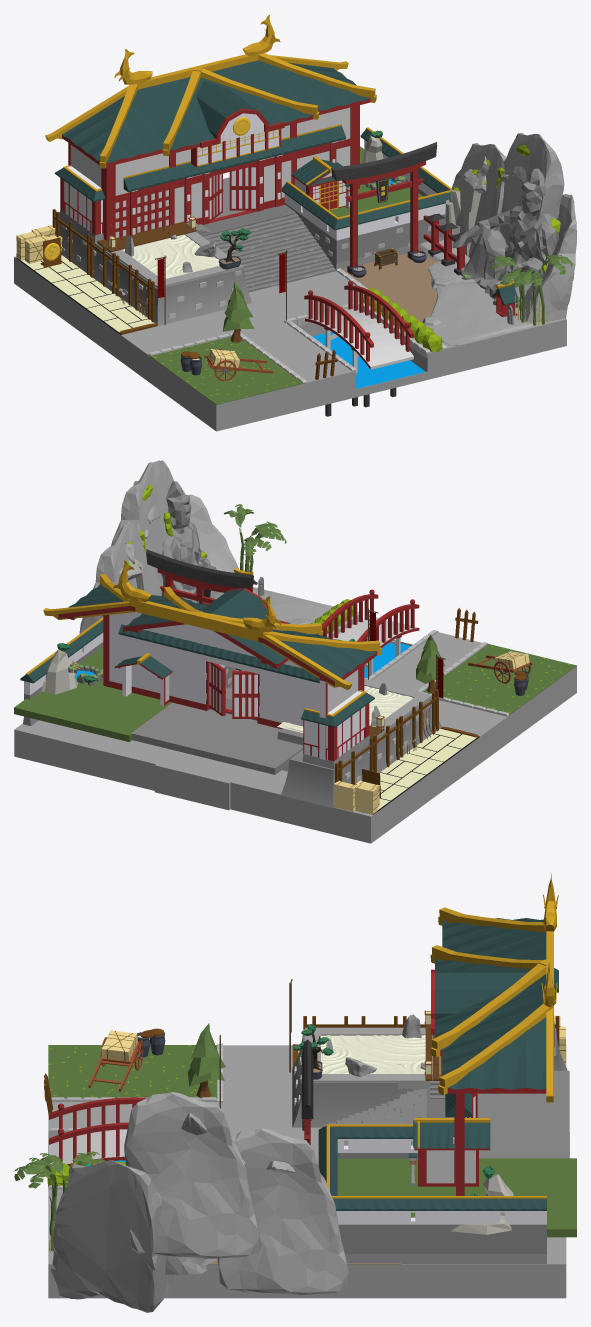
Rendered from Asian_Building.fbx.
3 renders of one model, top to bottom at view 1: azimuth 30°, elevation 25°; view 2: azimuth 150°, elevation 25°; view 3: azimuth 270°, elevation 25°, orthographic. The views are drawn at different scales.
Visible parts, largest first — view 1: Cube (15), Asian_Prop_Statue_Buddha_Bodhisattva_01, Asian_Prop_Bridge_02, Asian_Prop_Building_Modular_Roof_Corner_Outer_01 (2), Cube (16), Cube (21), Asian_Prop_Torii_Gate_01, Asian_Prop_Building_Modular_Roof_Corner_Outer_02 (2), Rock_Large_09 (2), Asian_Prop_Building_Modular_Roof_Corner_Outer_01 (3), Rock_Large_06 (2), Rock_Large_06 (3) (+49 smaller); view 2: Cube (15), Cube (23), Cube (16), Cube (1), Cube (21), Cube (17), Asian_Prop_Building_Modular_Roof_Corner_Outer_01 (2), Asian_Prop_Bridge_02, Rock_Large_06 (2), Asian_Prop_Statue_Buddha_Bodhisattva_01, Asian_Prop_Building_Modular_Roof_Corner_Outer_02 (2), Asian_Prop_Torii_Gate_01 (+39 smaller); view 3: Rock_Large_06 (2), Rock_Large_06 (1), Rock_Large_06 (3), Cube (16), Cube (1), Asian_Prop_Building_Modular_Roof_Corner_Outer_01 (3), Cube (15), Cube (21), Asian_Prop_Building_Fence_Wall_High_Embrasure_04 (2), Cube (23), Asian_Prop_Building_Fence_Wall_High_Embrasure_04 (3), Asian_Prop_Building_Modular_Roof_Corner_Outer_02 (3) (+26 smaller).
Boxes of the visible parts, bbox=[...] form: Cube (15): bbox=[14, 256, 355, 431]; Asian_Prop_Statue_Buddha_Bodhisattva_01: bbox=[452, 168, 557, 307]; Asian_Prop_Bridge_02: bbox=[304, 280, 413, 369]; Asian_Prop_Building_Modular_Roof_Corner_Outer_01 (2): bbox=[62, 83, 168, 168]; Cube (16): bbox=[321, 271, 566, 379]; Cube (21): bbox=[150, 336, 304, 404]; Asian_Prop_Torii_Gate_01: bbox=[331, 142, 437, 274]; Asian_Prop_Building_Modular_Roof_Corner_Outer_02 (2): bbox=[162, 69, 242, 155]; Rock_Large_09 (2): bbox=[430, 282, 541, 346]; Asian_Prop_Building_Modular_Roof_Corner_Outer_01 (3): bbox=[258, 53, 376, 114]; Rock_Large_06 (2): bbox=[499, 133, 564, 245]; Rock_Large_06 (3): bbox=[519, 194, 576, 322]; Cube (15): bbox=[230, 632, 576, 843]; Cube (23): bbox=[131, 702, 303, 774]; Cube (16): bbox=[14, 587, 320, 790]; Cube (1): bbox=[14, 646, 171, 742]; Cube (21): bbox=[423, 644, 576, 715]; Cube (17): bbox=[154, 750, 248, 810]; Asian_Prop_Building_Modular_Roof_Corner_Outer_01 (2): bbox=[258, 631, 381, 685]; Asian_Prop_Bridge_02: bbox=[321, 589, 419, 647]; Rock_Large_06 (2): bbox=[111, 460, 173, 594]; Asian_Prop_Statue_Buddha_Bodhisattva_01: bbox=[160, 481, 224, 603]; Asian_Prop_Building_Modular_Roof_Corner_Outer_02 (2): bbox=[200, 588, 323, 668]; Asian_Prop_Torii_Gate_01: bbox=[146, 549, 253, 603]; Rock_Large_06 (2): bbox=[124, 1092, 261, 1258]; Rock_Large_06 (1): bbox=[217, 1128, 350, 1294]; Rock_Large_06 (3): bbox=[51, 1160, 173, 1312]; Cube (16): bbox=[48, 1189, 566, 1298]; Cube (1): bbox=[337, 1158, 576, 1237]; Asian_Prop_Building_Modular_Roof_Corner_Outer_01 (3): bbox=[438, 1003, 553, 1094]; Cube (15): bbox=[48, 1045, 566, 1153]; Cube (21): bbox=[48, 1045, 217, 1100]; Asian_Prop_Building_Fence_Wall_High_Embrasure_04 (2): bbox=[368, 1196, 457, 1263]; Cube (23): bbox=[477, 1070, 569, 1158]; Asian_Prop_Building_Fence_Wall_High_Embrasure_04 (3): bbox=[457, 1196, 546, 1263]; Asian_Prop_Building_Modular_Roof_Corner_Outer_02 (3): bbox=[430, 962, 546, 1057].
Size of the model in its own units: 33.57 by 21.97 by 32.59.
